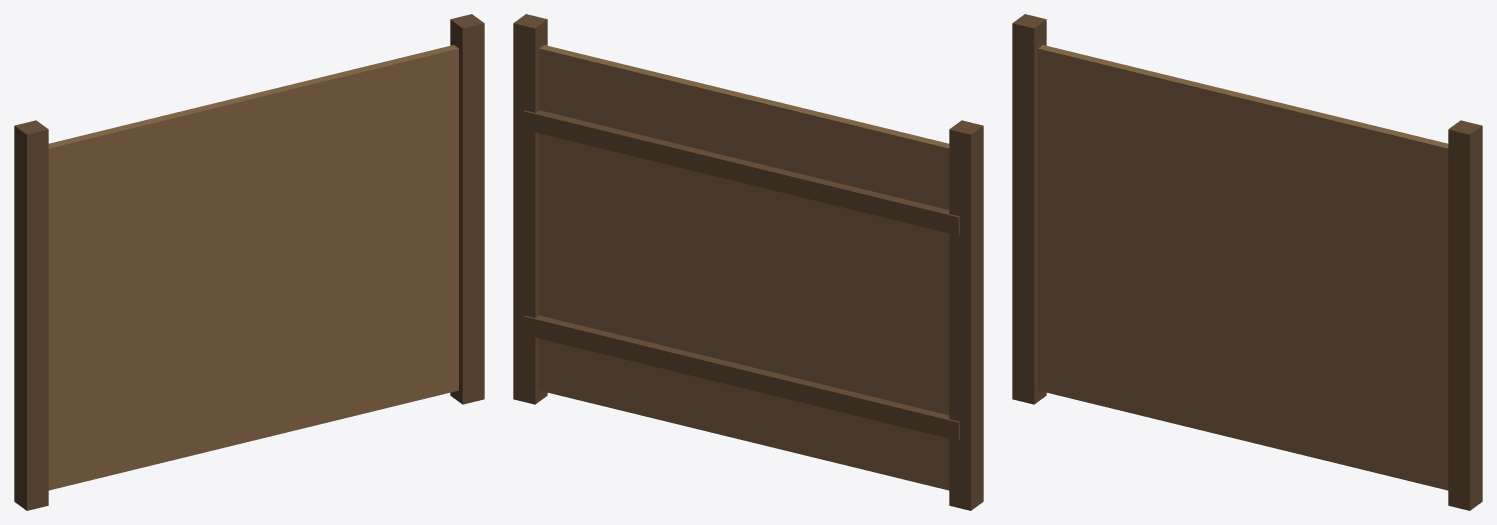
File: fence-panel.glb
3 views of the same model, side by side, from view 1: azimuth 30°, elevation 25°; view 2: azimuth 150°, elevation 25°; view 3: azimuth 330°, elevation 25° (orthographic).
Parts seen in each view (by area): view 1: fence-panel; view 2: fence-panel; view 3: fence-panel.
Boxes of the visible parts, left/top/right/bottom form: fence-panel: left=14, top=14, right=484, bottom=510; fence-panel: left=513, top=14, right=983, bottom=510; fence-panel: left=1012, top=14, right=1482, bottom=510.
Size of the model in its own units: 2.1 by 1.65 by 0.11.
